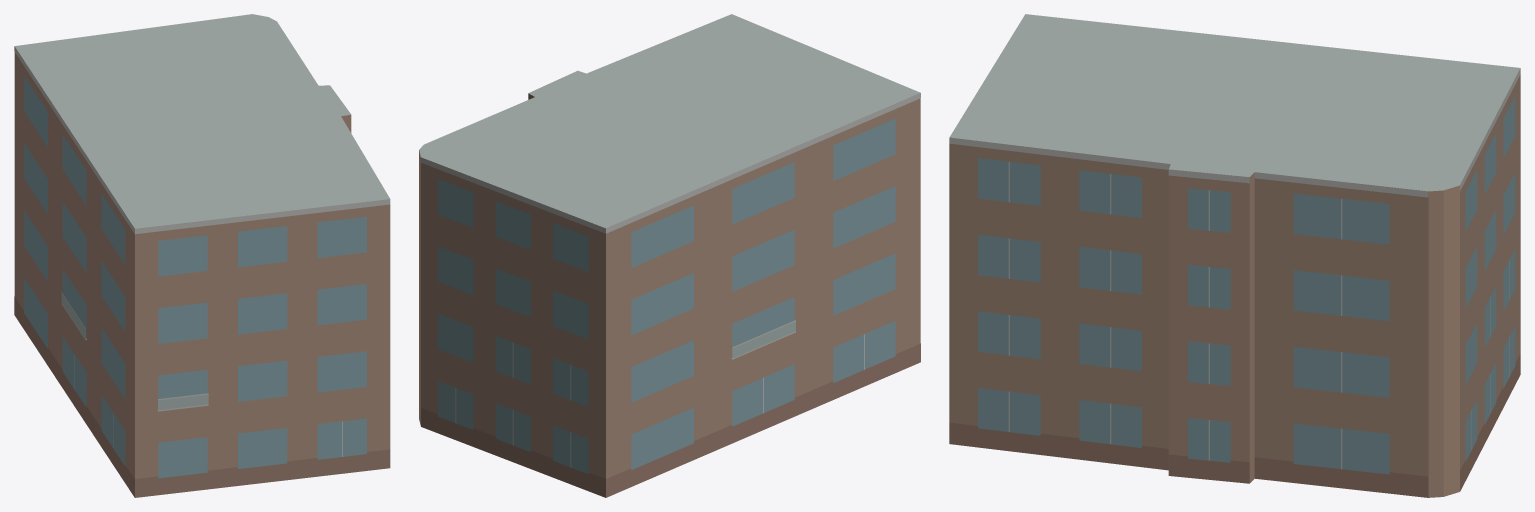
The model's file is survey-upis-32806026.glb.
The picture shows the model from 3 angles, left to right: view 1: azimuth 30°, elevation 25°; view 2: azimuth 150°, elevation 25°; view 3: azimuth 270°, elevation 25°; orthographic projection. The views are drawn at different scales.
Parts seen in each view (by area): view 1: survey-upis-32806026.tmp; view 2: survey-upis-32806026.tmp; view 3: survey-upis-32806026.tmp.
Boxes of the visible parts, x1=… form: survey-upis-32806026.tmp: x1=14, y1=14, x2=390, y2=497; survey-upis-32806026.tmp: x1=419, y1=14, x2=920, y2=497; survey-upis-32806026.tmp: x1=949, y1=14, x2=1520, y2=497.
Bounding box in the file's own units: 15.15 × 12.2 × 20.62.
